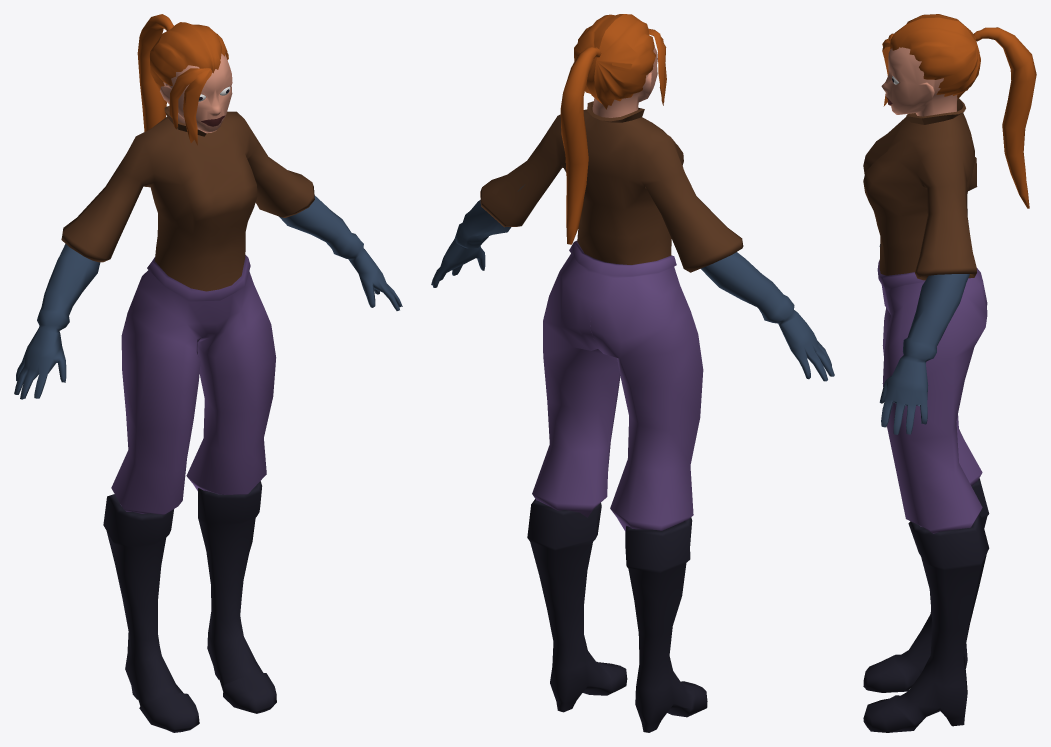
File: Girl.fbx
3 views of the same model, side by side, from view 1: azimuth 30°, elevation 25°; view 2: azimuth 150°, elevation 25°; view 3: azimuth 270°, elevation 25° (orthographic). The views are drawn at different scales.
Visible parts, largest first — view 1: Girl_Character; view 2: Girl_Character; view 3: Girl_Character.
Part boxes in pixels (x1,y1,x2,y2): Girl_Character: (14, 14, 402, 732); Girl_Character: (431, 14, 834, 732); Girl_Character: (863, 14, 1036, 732).
Bounding box in the file's own units: 103 × 173 × 39.38.
